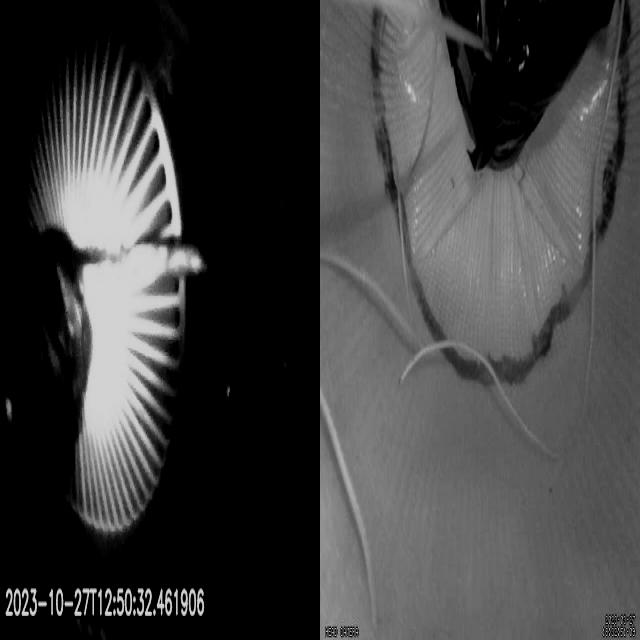red-circle: (370, 0, 632, 387)
